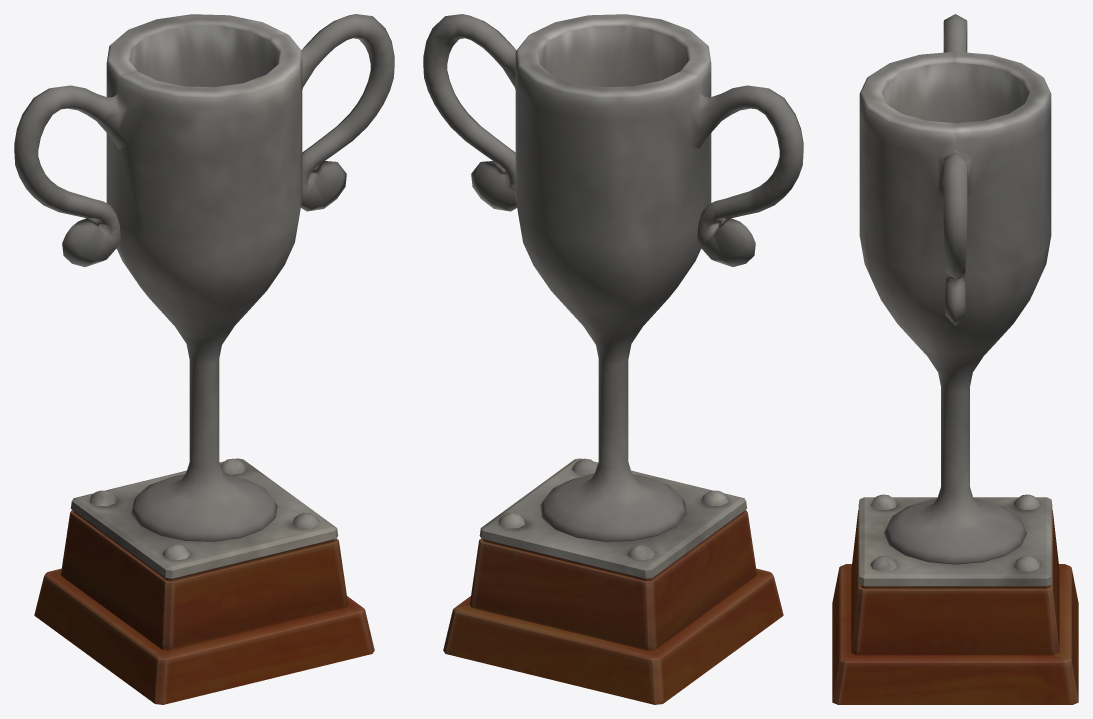
The model's file is sb_obj_indoor014_Trophy02.fbx.
The picture shows the model from 3 angles, left to right: view 1: azimuth 30°, elevation 25°; view 2: azimuth 150°, elevation 25°; view 3: azimuth 270°, elevation 25°; orthographic projection. The views are drawn at different scales.
Parts seen in each view (by area): view 1: sb_obj_indoor014_Trophy02; view 2: sb_obj_indoor014_Trophy02; view 3: sb_obj_indoor014_Trophy02.
Boxes of the visible parts, x1,y1,x2,y2 form: sb_obj_indoor014_Trophy02: (14,14,394,704); sb_obj_indoor014_Trophy02: (423,14,803,704); sb_obj_indoor014_Trophy02: (832,14,1078,704).
Bounding box in the file's own units: 0.2909 × 0.4253 × 0.168.
